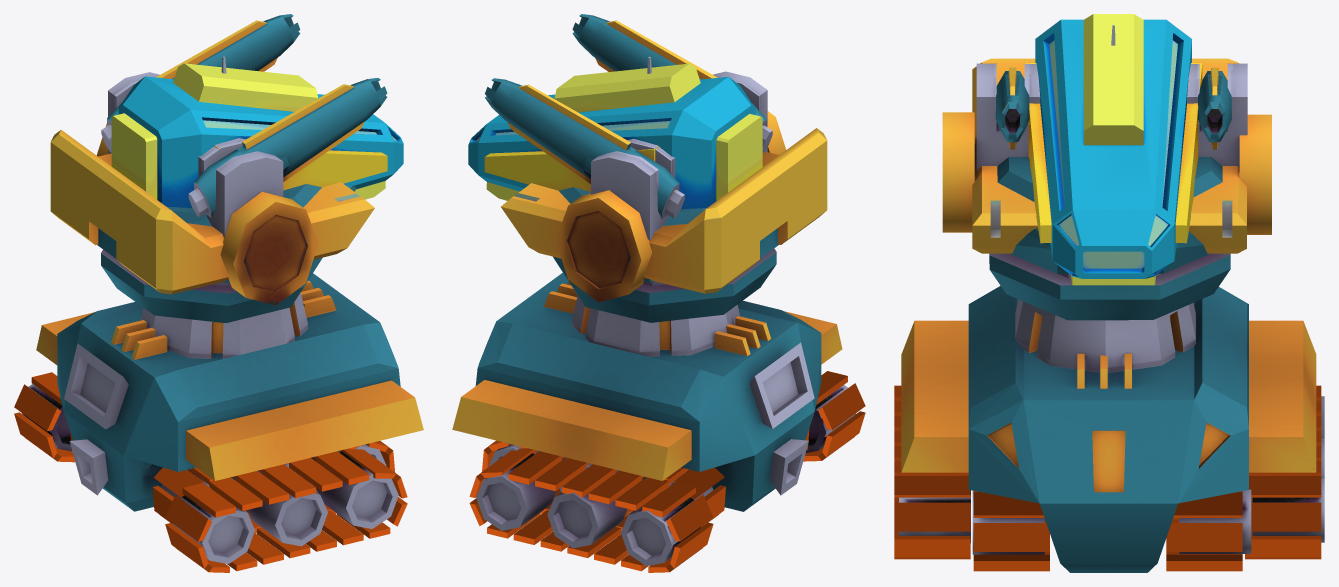
Rendered from Player_Idle_2_Upgrade10.obj.
3 views of the same model, side by side, from view 1: azimuth 30°, elevation 25°; view 2: azimuth 150°, elevation 25°; view 3: azimuth 270°, elevation 25° (orthographic). The views are drawn at different scales.
Parts seen in each view (by area): view 1: Object008, Box020, Object014, Box018, Box019, Box017; view 2: Object008, Box019, Object014, Box018, Box020, Box016; view 3: Object008, Box020, Box019, Box017, Box016, Object014, Box018, Box009.
Part boxes in pixels (left/top/right/bottom): Object008: left=36, top=63, right=423, bottom=511; Box020: left=165, top=449, right=407, bottom=572; Object014: left=101, top=14, right=387, bottom=217; Box018: left=22, top=384, right=398, bottom=563; Box019: left=14, top=372, right=75, bottom=462; Box017: left=152, top=441, right=394, bottom=533; Object008: left=452, top=63, right=842, bottom=511; Box019: left=469, top=448, right=713, bottom=572; Object014: left=485, top=14, right=772, bottom=219; Box018: left=476, top=385, right=856, bottom=566; Box020: left=803, top=371, right=865, bottom=461; Box016: left=482, top=440, right=725, bottom=531; Object008: left=901, top=14, right=1316, bottom=572; Box020: left=894, top=385, right=970, bottom=559; Box019: left=1245, top=385, right=1321, bottom=559; Box017: left=973, top=491, right=1049, bottom=571; Box016: left=1166, top=491, right=1242, bottom=571; Object014: left=995, top=67, right=1231, bottom=149; Box018: left=899, top=396, right=1324, bottom=542; Box009: left=972, top=489, right=1251, bottom=554.
Size of the model in its own units: 65.77 by 86.72 by 68.55.
Materials: 5 (3 with a texture image).
